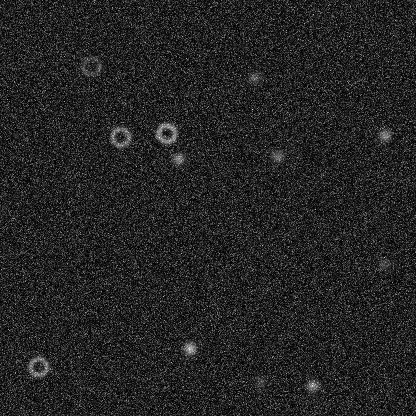Ring: (108, 124, 132, 148), (154, 121, 178, 145), (79, 54, 103, 78), (26, 354, 50, 378)
Spot: (375, 255, 391, 271), (245, 69, 261, 85), (269, 147, 285, 163), (170, 150, 186, 166), (304, 377, 320, 393), (376, 127, 392, 143), (181, 340, 197, 356), (252, 374, 268, 390)
